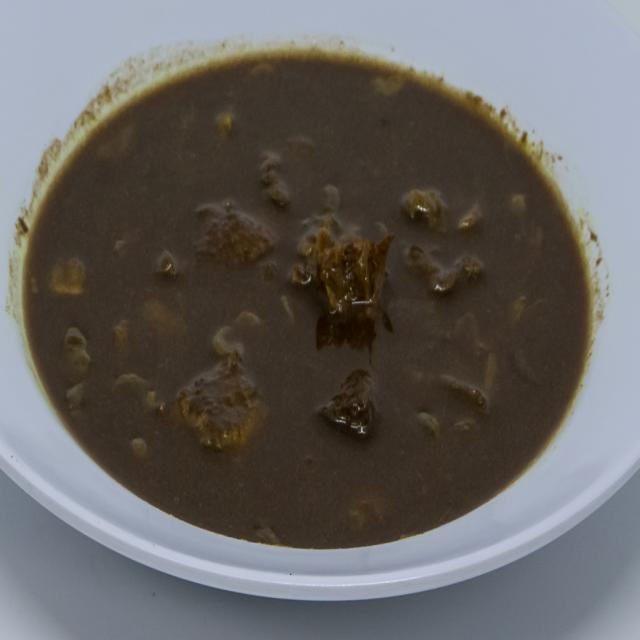Rawon-Surabaya: (10, 32, 596, 560)
